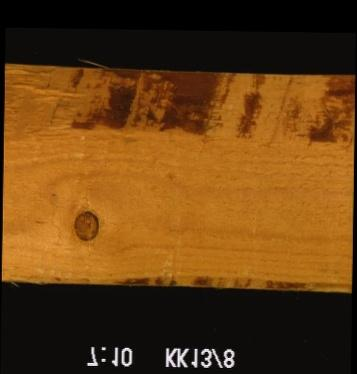wave: (3, 70, 353, 156), (119, 268, 351, 290)
